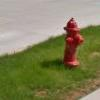Hydrant: (56, 10, 90, 70)
